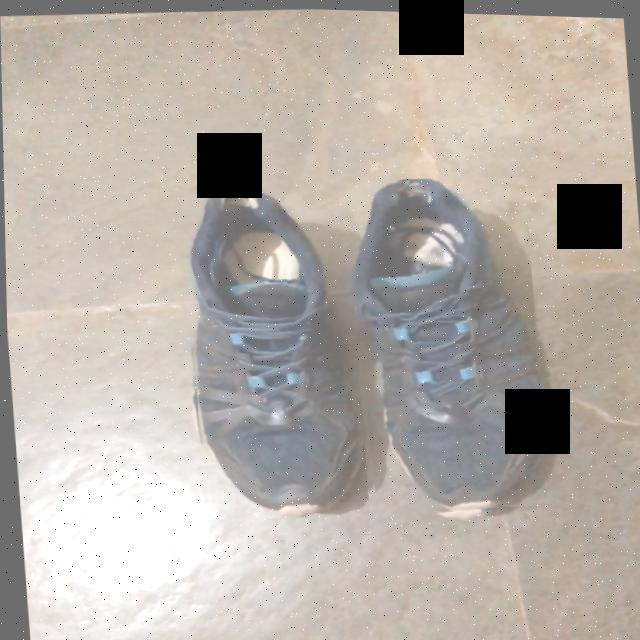shoe: (352, 176, 544, 509), (188, 185, 366, 516)
